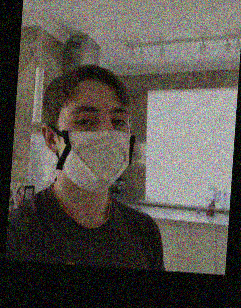with_mask: (59, 101, 135, 193)
